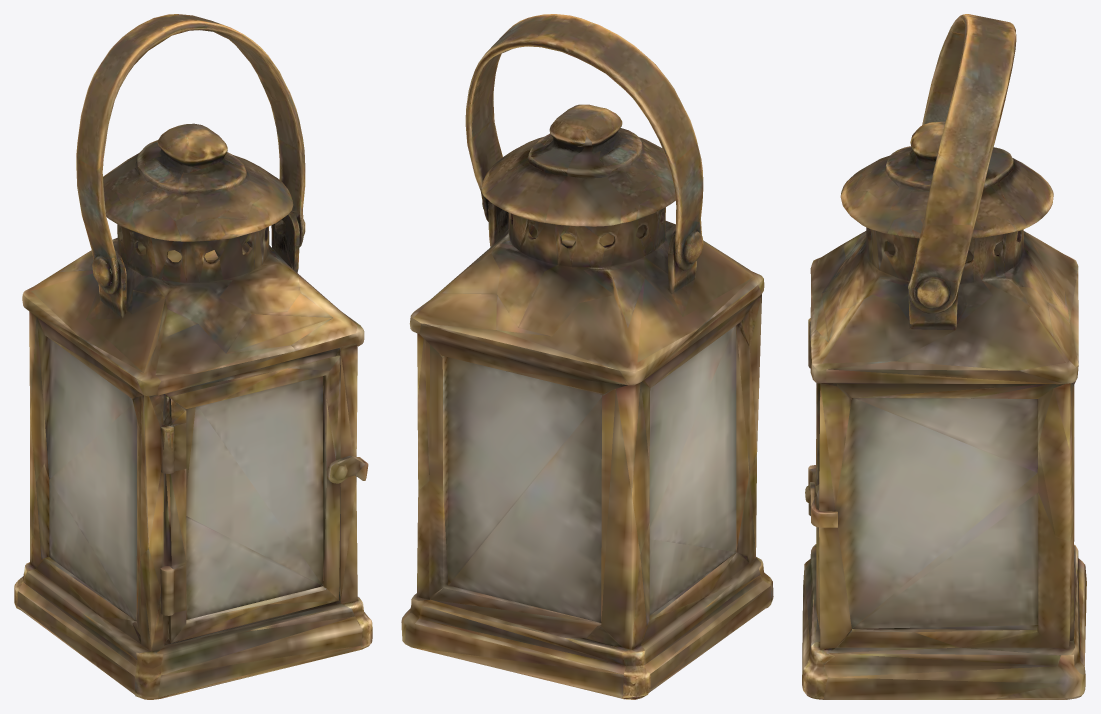
File: lantern.glb
3 views of the same model, side by side, from view 1: azimuth 30°, elevation 25°; view 2: azimuth 150°, elevation 25°; view 3: azimuth 270°, elevation 25° (orthographic). The views are drawn at different scales.
Parts seen in each view (by area): view 1: Mesh_0; view 2: Mesh_0; view 3: Mesh_0.
Part boxes in pixels (bbox=[...]): Mesh_0: bbox=[14, 14, 372, 699]; Mesh_0: bbox=[401, 14, 773, 699]; Mesh_0: bbox=[802, 14, 1086, 699].
Bounding box in the file's own units: 0.7912 × 1.9 × 0.7902.
Materials: 1 (1 with a texture image).
